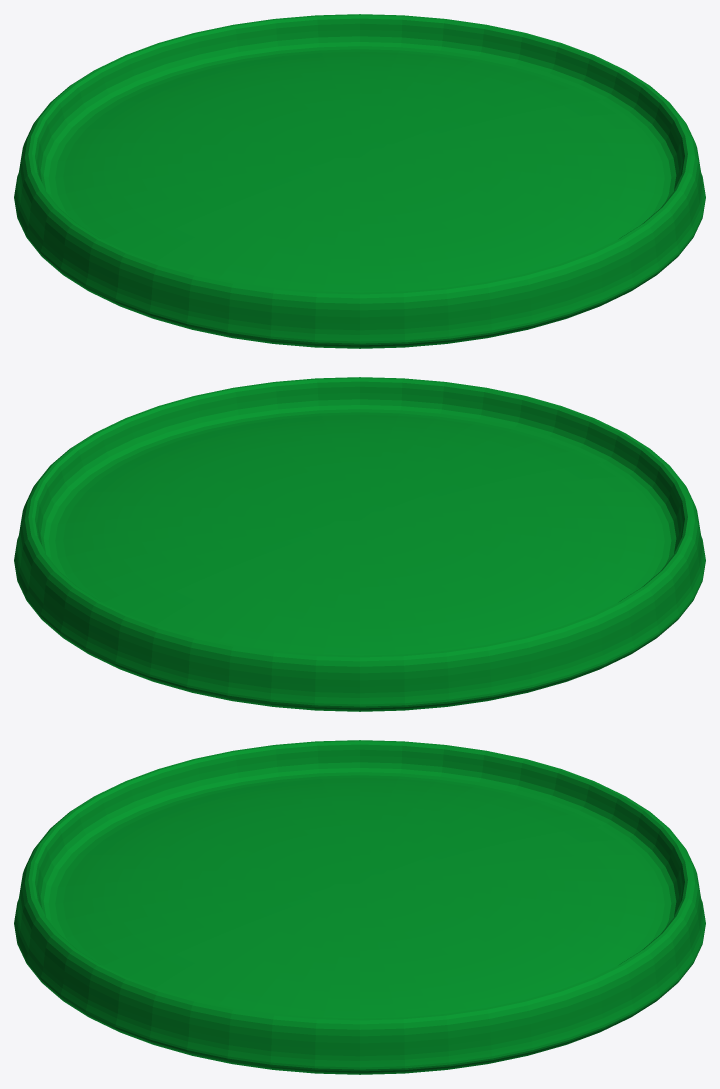
Rendered from lilypad full temp.fbx.
3 views of the same model, one above another, from view 1: azimuth 30°, elevation 25°; view 2: azimuth 150°, elevation 25°; view 3: azimuth 270°, elevation 25° (orthographic).
Visible parts, largest first — view 1: Sphere.001; view 2: Sphere.001; view 3: Sphere.001.
Boxes of the visible parts, left/top/right/bottom form: Sphere.001: left=14, top=14, right=705, bottom=348; Sphere.001: left=14, top=377, right=705, bottom=711; Sphere.001: left=14, top=740, right=705, bottom=1074.
Size of the model in its own units: 190 by 25.09 by 190.
